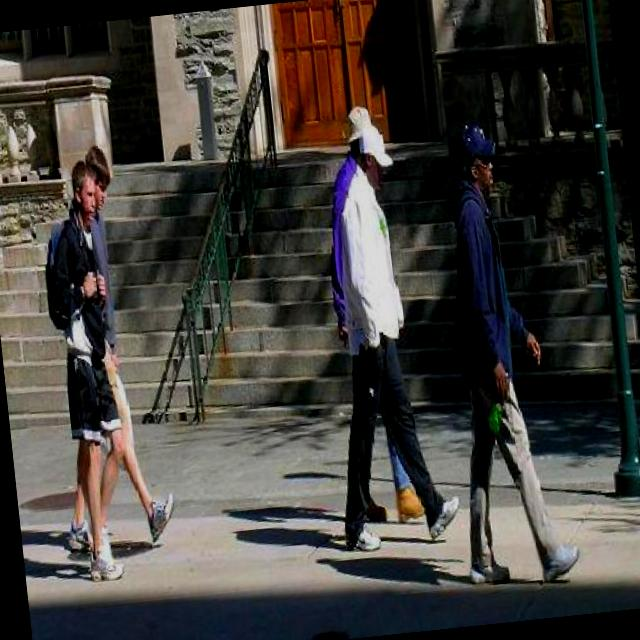Person: (422, 116, 584, 594), (303, 120, 466, 550), (31, 156, 146, 590)
